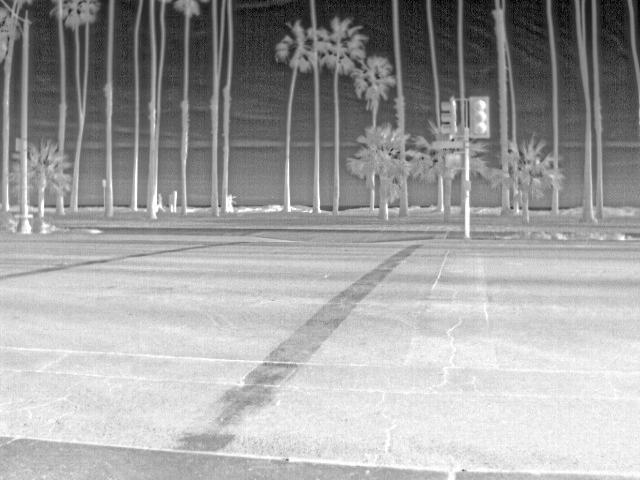person: (156, 192, 165, 210), (226, 194, 234, 213)
